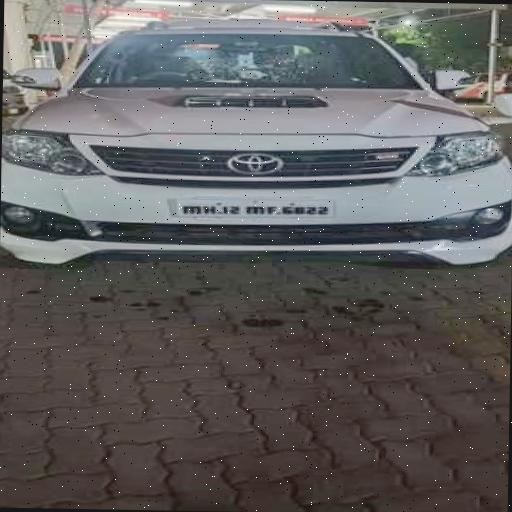license_plate`: (173, 197, 332, 218)
